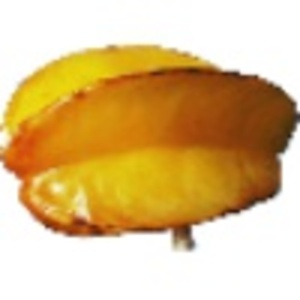carambola: (1, 41, 300, 253)
